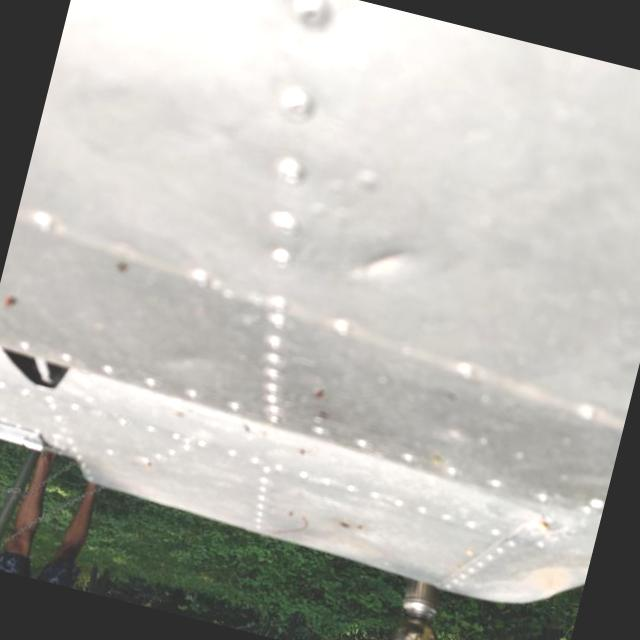dent: (314, 193, 454, 329)
